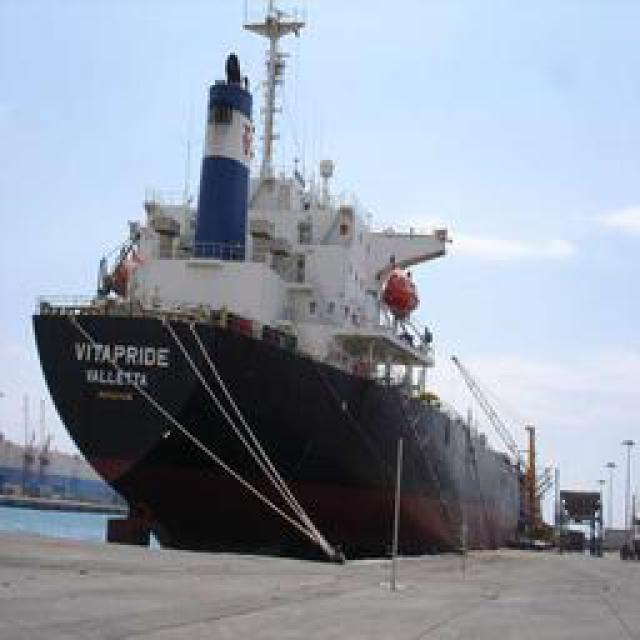Ship: (27, 37, 497, 555)
